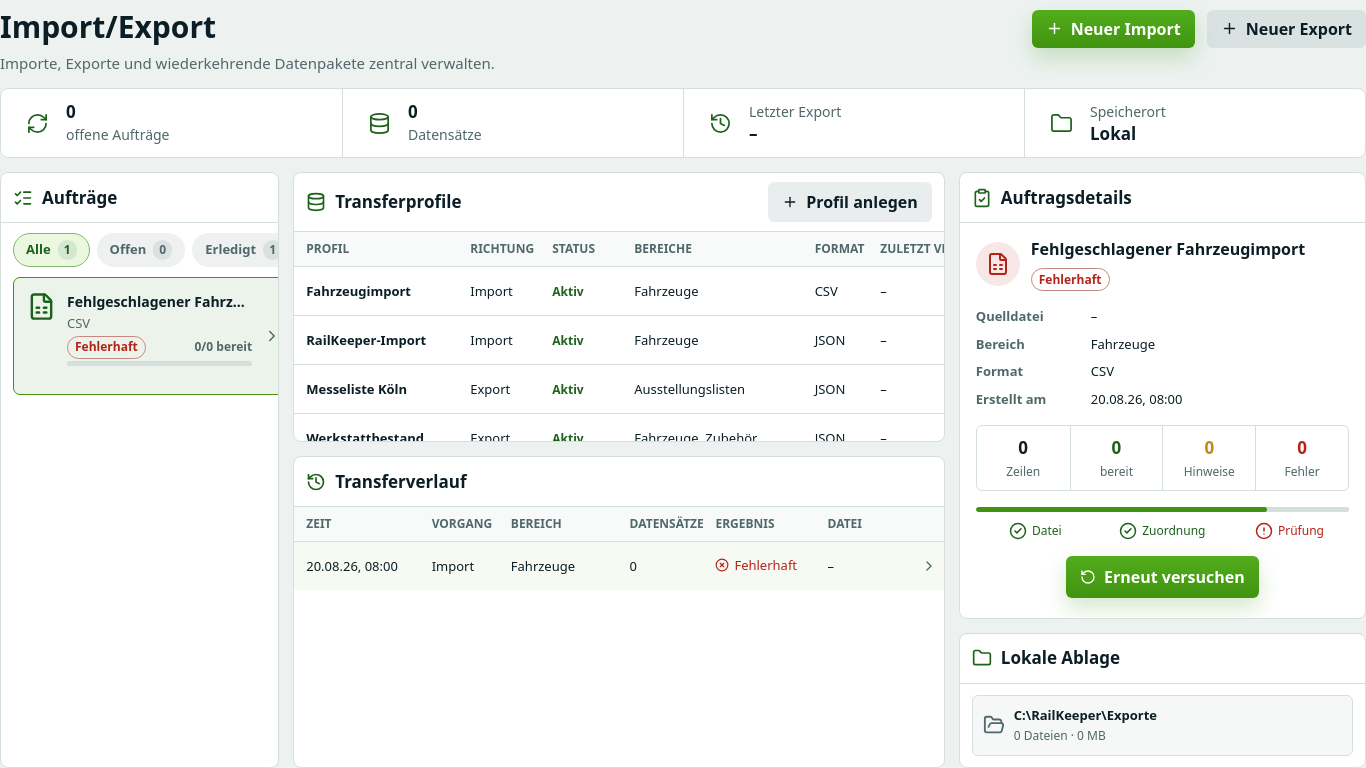
it: data transfer operational dialogs › retries into a fresh draft flow without confirming the historical import
Step 1. Click the button "Erneut versuchen" → (1162, 576), box [1066,556,1259,598]
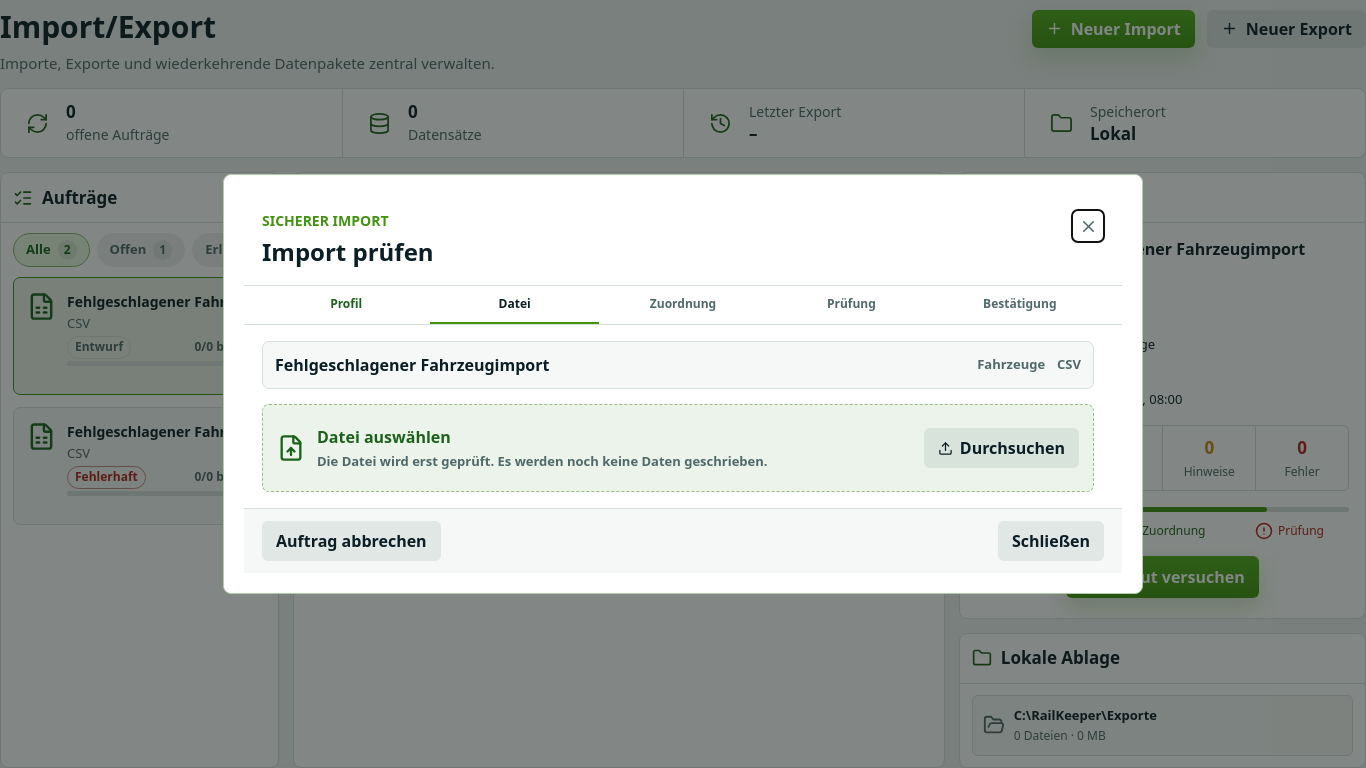
Expected: the text "Fehlgeschlagener Fahrzeugimport" is shown, [275,353,549,377]
